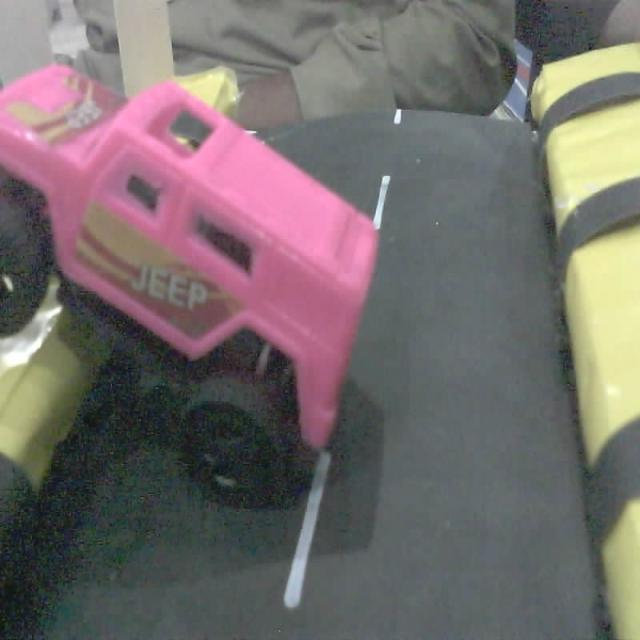Accident: (0, 56, 382, 513)
